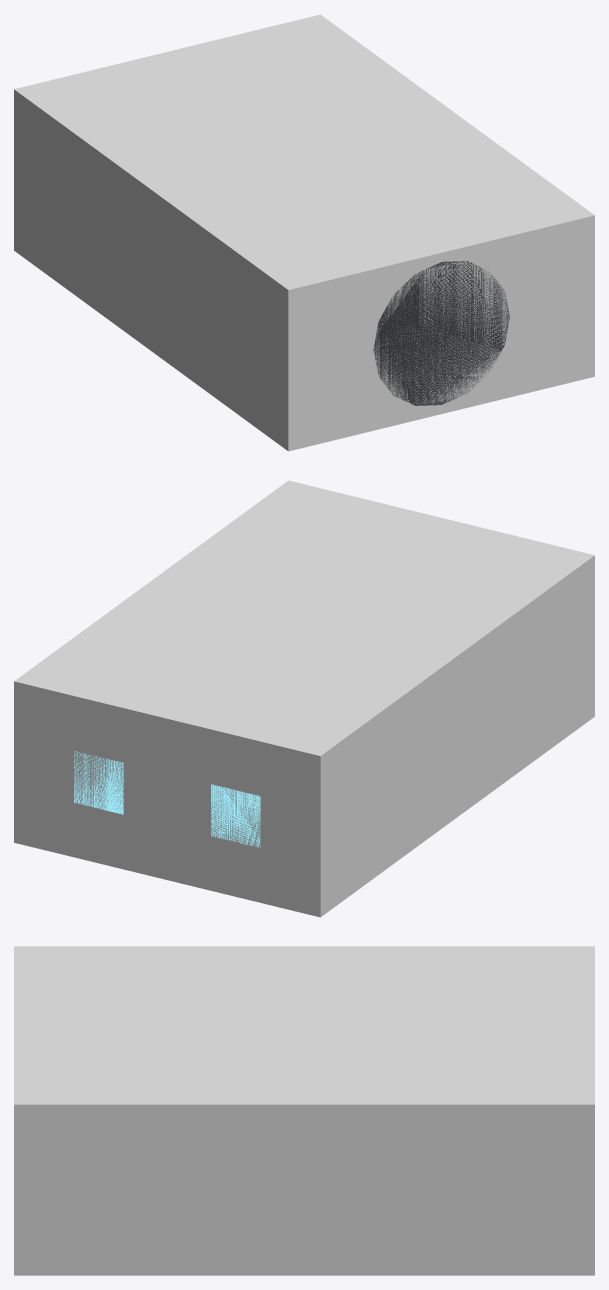
Rendered from smg_emitter_arc.glb.
The picture shows the model from 3 angles, top to bottom: view 1: azimuth 30°, elevation 25°; view 2: azimuth 150°, elevation 25°; view 3: azimuth 270°, elevation 25°; orthographic projection. The views are drawn at different scales.
Parts seen in each view (by area): view 1: COL_part, emitter; view 2: COL_part, emitter; view 3: COL_part.
Boxes of the visible parts, box(x1,y1,x2,y2) form: COL_part: box(14, 14, 594, 451); emitter: box(373, 261, 509, 405); COL_part: box(14, 480, 594, 917); emitter: box(74, 751, 260, 847); COL_part: box(14, 946, 594, 1275).
Bounding box in the file's own units: 0.0716 × 0.036 × 0.111.
